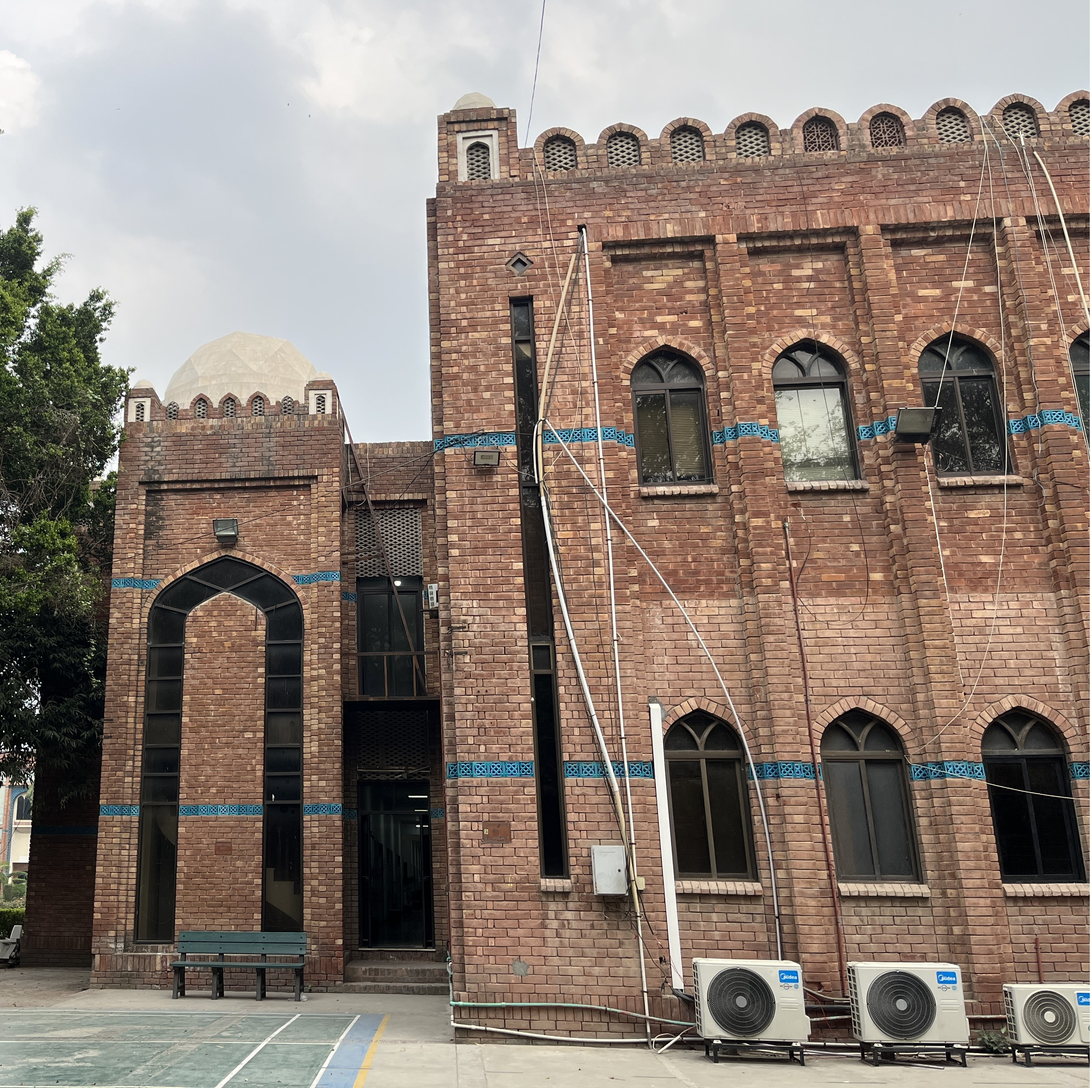Block B: (115, 89, 1091, 1026)
